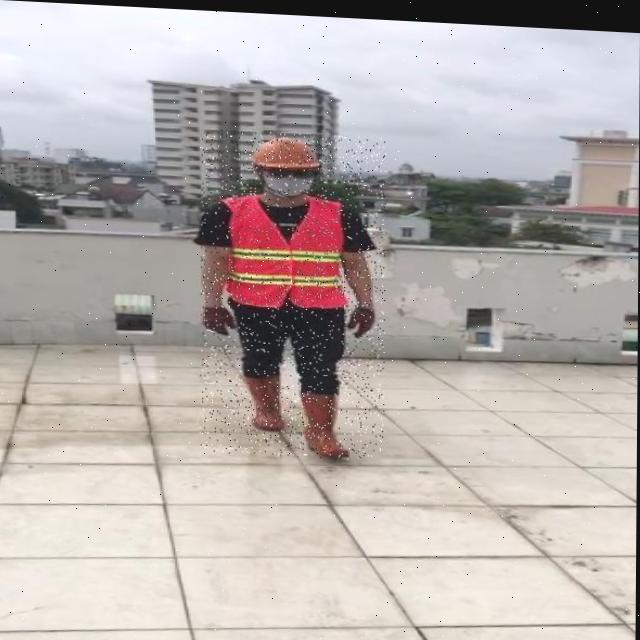Gloves: (202, 302, 235, 333), (347, 299, 375, 334)
Helmet: (252, 132, 321, 195)
Safety-Boot: (300, 386, 349, 456), (243, 366, 286, 428)
Safety-Vest: (217, 188, 347, 308)
